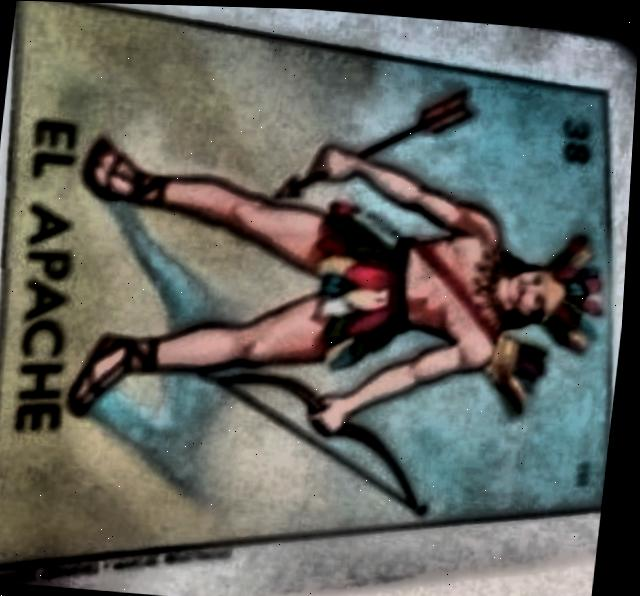El Apache: (0, 0, 616, 565)
